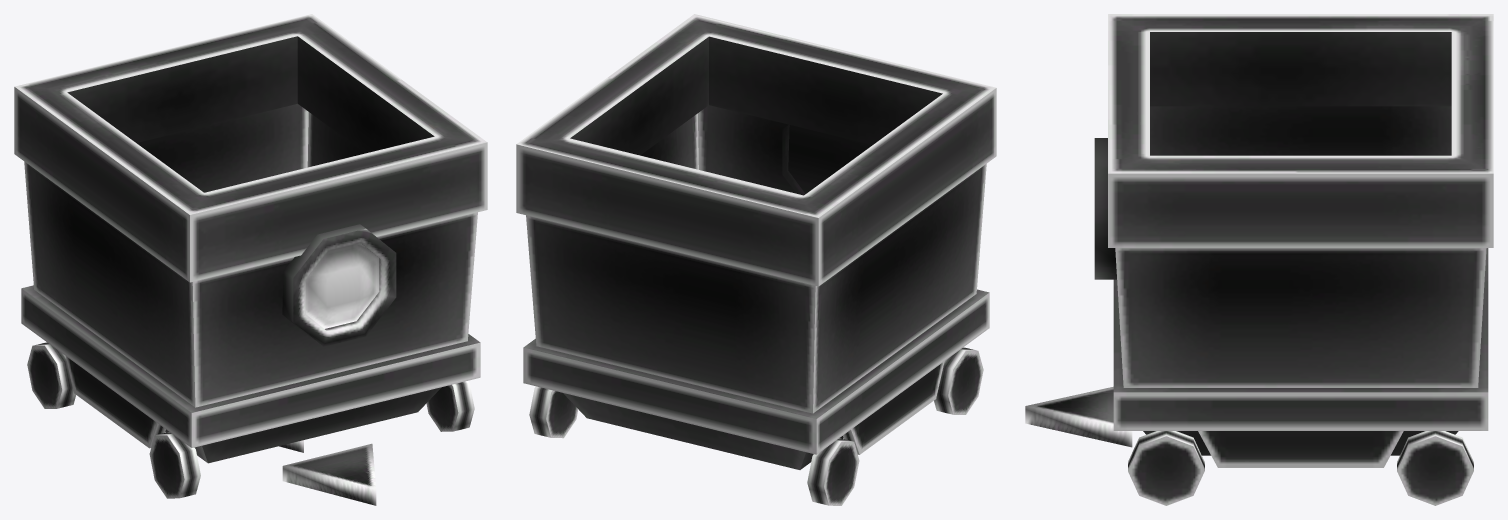
Rendered from F22_TRAIN_01T.obj.
3 renders of one model, left to right at view 1: azimuth 30°, elevation 25°; view 2: azimuth 150°, elevation 25°; view 3: azimuth 270°, elevation 25°, orthographic. The views are drawn at different scales.
Visible parts, largest first — view 1: F22_TRAIN_01T_ncl1_1; view 2: F22_TRAIN_01T_ncl1_1; view 3: F22_TRAIN_01T_ncl1_1.
Boxes of the visible parts, x1,y1,x2,y2 form: F22_TRAIN_01T_ncl1_1: [14, 14, 487, 505]; F22_TRAIN_01T_ncl1_1: [516, 14, 996, 505]; F22_TRAIN_01T_ncl1_1: [1025, 14, 1493, 505].
Size of the model in its own units: 0.7853 by 0.7661 by 0.9734.
1 material, 1 textured.
